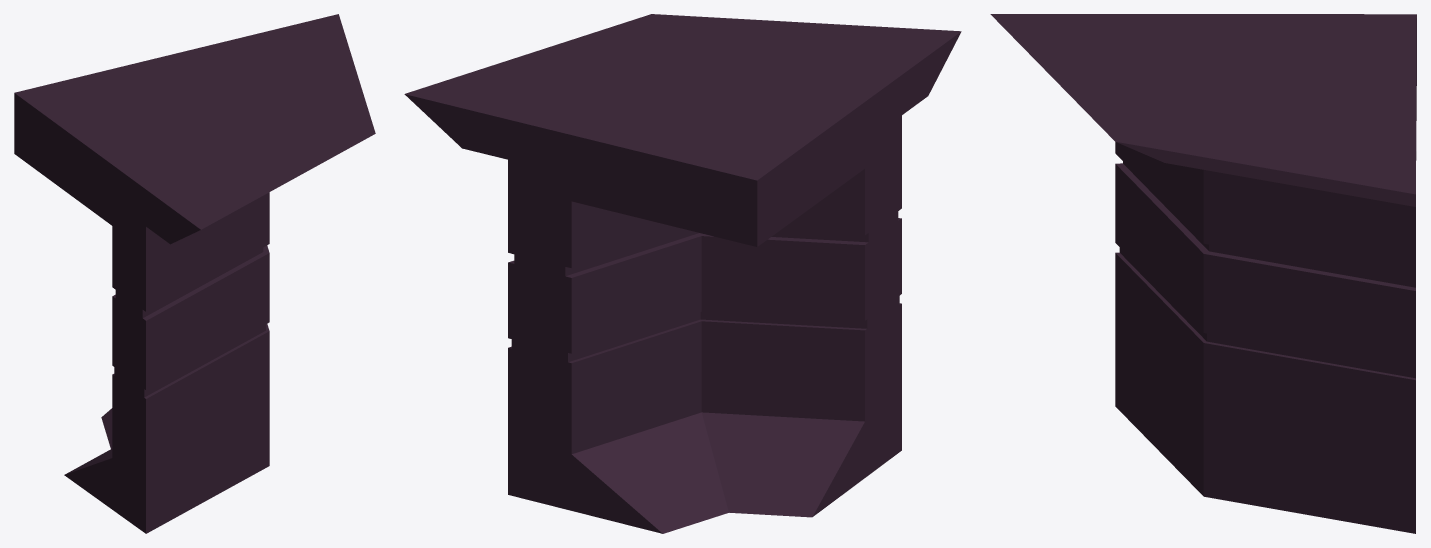
Rendered from barTable3.fbx.
The picture shows the model from 3 angles, left to right: view 1: azimuth 30°, elevation 25°; view 2: azimuth 150°, elevation 25°; view 3: azimuth 270°, elevation 25°; orthographic projection. The views are drawn at different scales.
Parts seen in each view (by area): view 1: barTableCorner.001; view 2: barTableCorner.001; view 3: barTableCorner.001.
Boxes of the visible parts, x1,y1,x2,y2 form: barTableCorner.001: (14, 14, 375, 533); barTableCorner.001: (404, 14, 961, 533); barTableCorner.001: (990, 14, 1416, 533).
Bounding box in the file's own units: 0.3019 × 0.3072 × 0.3017.
